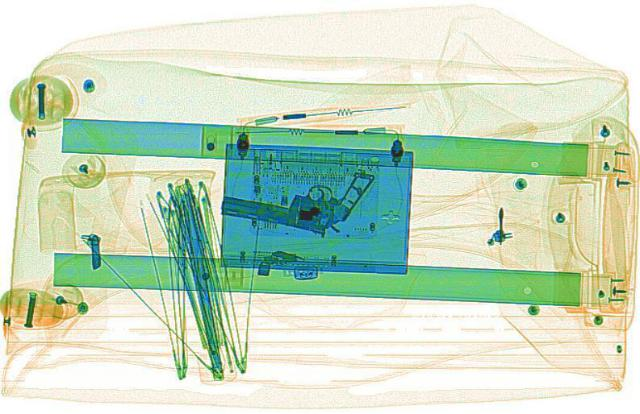Gun: (212, 150, 374, 238)
